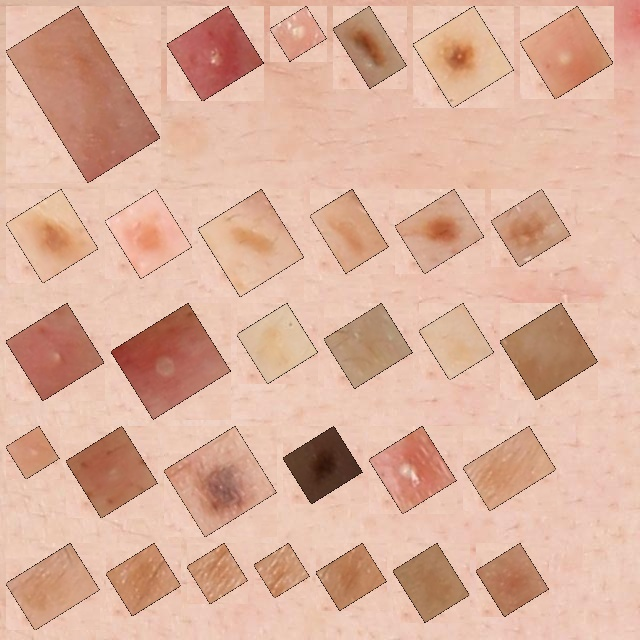hypertrophic_scar: (511, 314, 587, 389)
melasma: (17, 17, 149, 171), (209, 200, 293, 286), (17, 554, 89, 619), (474, 437, 545, 500), (116, 200, 181, 267), (406, 200, 473, 263), (335, 314, 401, 377), (321, 200, 377, 262), (248, 314, 307, 372), (502, 200, 559, 256), (404, 554, 458, 611), (430, 314, 483, 369), (117, 554, 170, 605), (487, 554, 538, 605), (327, 554, 375, 599), (198, 554, 237, 593), (265, 554, 298, 587)
nevus: (175, 437, 266, 526), (424, 17, 503, 97), (294, 437, 351, 493), (344, 17, 396, 77)
pustule: (122, 314, 220, 408), (17, 314, 93, 389), (178, 17, 253, 90), (531, 17, 602, 88), (77, 437, 146, 507), (380, 437, 445, 503), (281, 17, 316, 50), (17, 437, 48, 468)
